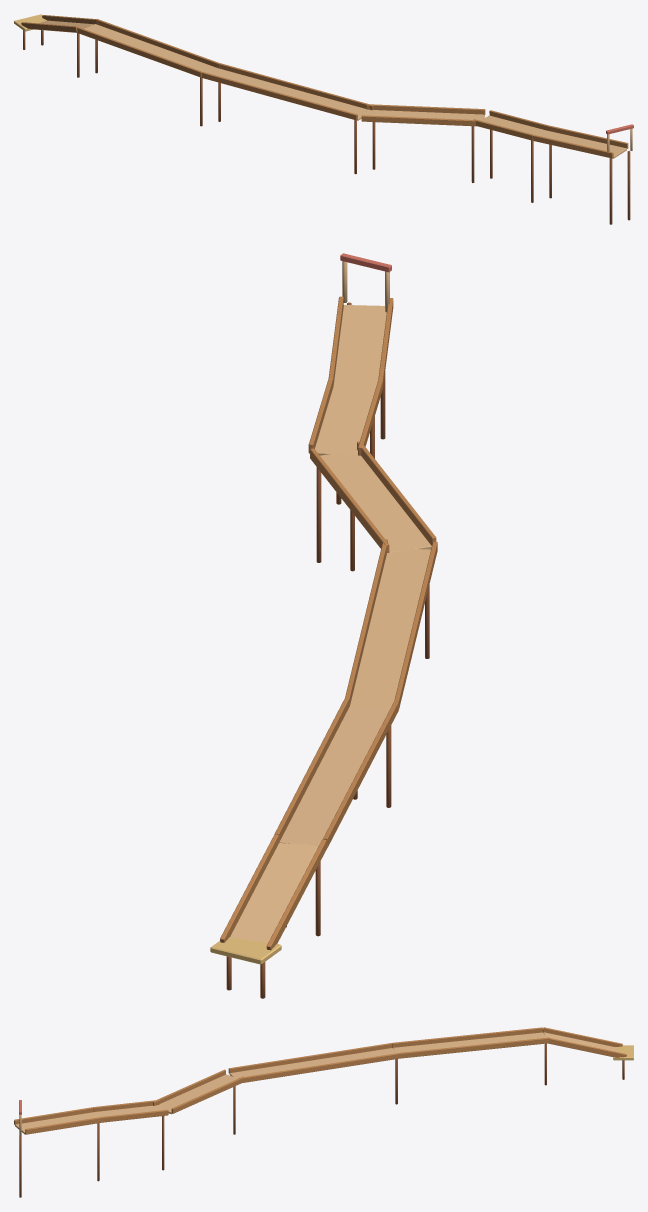
3 renders of one model, top to bottom at view 1: azimuth 30°, elevation 25°; view 2: azimuth 150°, elevation 25°; view 3: azimuth 270°, elevation 25°, orthographic. The views are drawn at different scales.
Visible parts, largest first — view 1: F35E_Full_Bed_3, F35E_Full_Bed_4, F35E_Full_Curb_3.001, F35E_Full_Curb_3, F35E_Full_Curb_4.001, F35E_Full_Bed_2, F35E_Full_Curb_4, F35E_Full_Curb_2.001, F35E_Full_Curb_2, F35E_Full_Bed_0, F35E_Full_Curb_0.001, F35E_Full_Bed_1 (+5 smaller); view 2: F35E_Full_Bed_3, F35E_Full_Bed_4, F35E_Full_Bed_5, F35E_Full_Bed_2, F35E_Full_Bed_0, F35E_Full_Bed_1, F35E_Full_Curb_4.001, F35E_Full_Curb_4, F35E_Full_Curb_2, F35E_Full_Curb_3.001, F35E_Full_HayPad, F35E_Full_Curb_3 (+3 smaller); view 3: F35E_Full_Bed_3, F35E_Full_Curb_3, F35E_Full_Bed_4, F35E_Full_Curb_3.001, F35E_Full_Curb_4, F35E_Full_Curb_4.001, F35E_Full_Bed_2, F35E_Full_Bed_0, F35E_Full_Curb_0, F35E_Full_Curb_5, F35E_Full_Curb_2, F35E_Full_Curb_0.001 (+6 smaller).
Boxes of the visible parts, x1,y1,x2,y2 form: F35E_Full_Bed_3: (208, 68, 366, 120); F35E_Full_Bed_4: (85, 24, 216, 73); F35E_Full_Curb_3.001: (201, 72, 357, 120); F35E_Full_Curb_3: (217, 63, 373, 110); F35E_Full_Curb_4.001: (77, 27, 201, 77); F35E_Full_Bed_2: (364, 109, 484, 126); F35E_Full_Curb_4: (95, 19, 219, 68); F35E_Full_Curb_2.001: (361, 115, 479, 126); F35E_Full_Curb_2: (366, 104, 485, 114); F35E_Full_Bed_0: (540, 131, 626, 158); F35E_Full_Curb_0.001: (533, 135, 613, 158); F35E_Full_Bed_1: (480, 115, 547, 135); F35E_Full_Bed_3: (349, 548, 430, 708); F35E_Full_Bed_4: (279, 707, 389, 846); F35E_Full_Bed_5: (230, 843, 318, 943); F35E_Full_Bed_2: (320, 453, 431, 552); F35E_Full_Bed_0: (333, 305, 386, 388); F35E_Full_Bed_1: (314, 387, 375, 455); F35E_Full_Curb_4.001: (323, 701, 398, 847); F35E_Full_Curb_4: (274, 697, 349, 842); F35E_Full_Curb_2: (310, 448, 389, 552); F35E_Full_Curb_3.001: (394, 541, 437, 709); F35E_Full_HayPad: (210, 937, 281, 964); F35E_Full_Curb_3: (345, 539, 387, 706); F35E_Full_Bed_3: (229, 1048, 397, 1078); F35E_Full_Curb_3: (238, 1052, 401, 1082); F35E_Full_Bed_4: (393, 1032, 546, 1057); F35E_Full_Curb_3.001: (228, 1043, 392, 1073); F35E_Full_Curb_4: (401, 1037, 549, 1058); F35E_Full_Curb_4.001: (392, 1027, 542, 1047); F35E_Full_Bed_2: (159, 1074, 237, 1114); F35E_Full_Bed_0: (15, 1112, 99, 1134); F35E_Full_Curb_0: (25, 1116, 104, 1134); F35E_Full_Curb_5: (548, 1038, 626, 1057); F35E_Full_Curb_2: (171, 1076, 244, 1113); F35E_Full_Curb_0.001: (14, 1107, 93, 1124).
Bounding box in the file's own units: 23.75 × 7.42 × 47.81.
